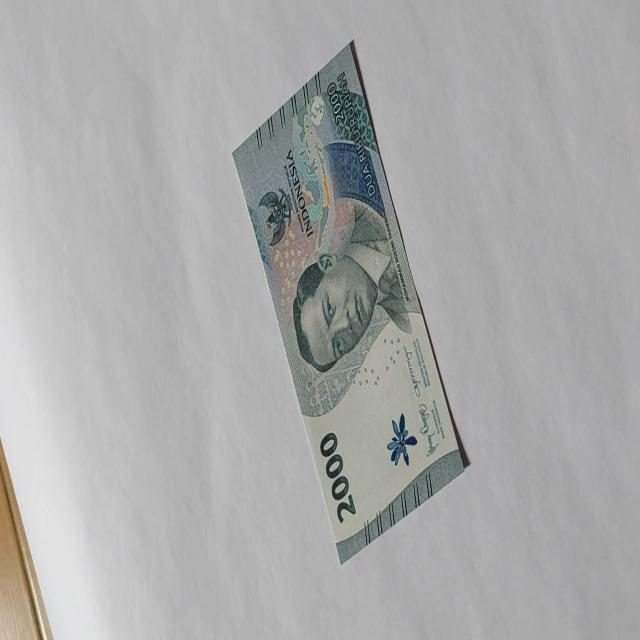dua ribu rupiah: (230, 39, 466, 565), (292, 198, 412, 374)
